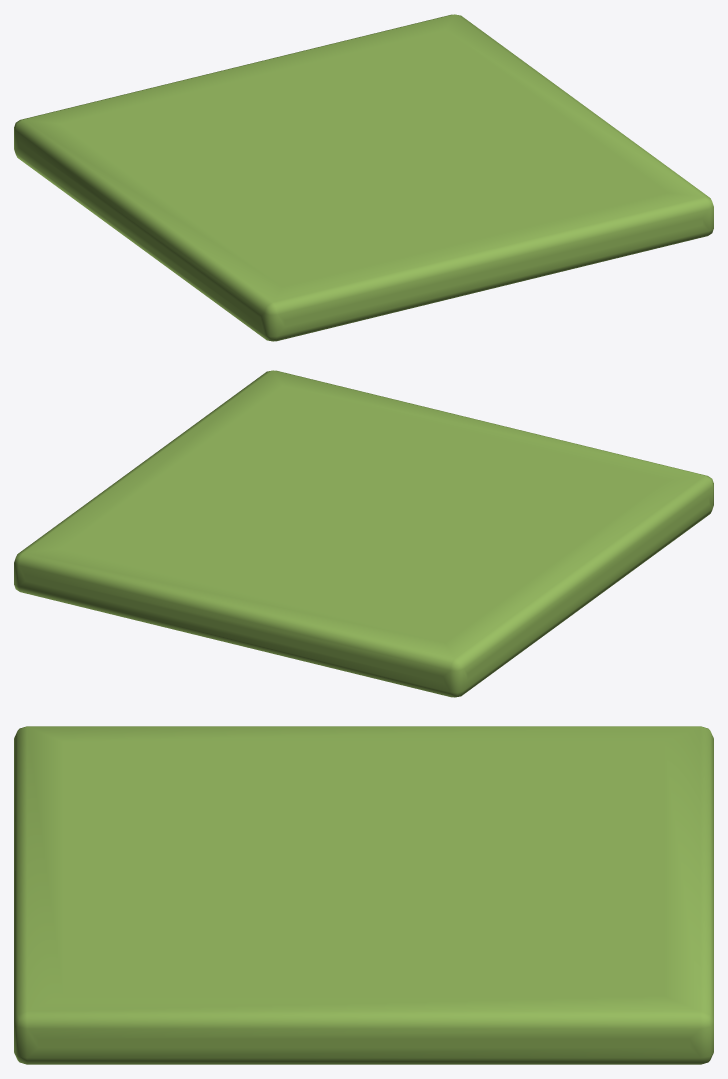
File: turf_pad.glb
3 renders of one model, top to bottom at view 1: azimuth 30°, elevation 25°; view 2: azimuth 150°, elevation 25°; view 3: azimuth 270°, elevation 25°, orthographic. The views are drawn at different scales.
Visible parts, largest first — view 1: Turf_Body; view 2: Turf_Body; view 3: Turf_Body.
Boxes of the visible parts, bbox=[...] form: Turf_Body: bbox=[14, 14, 713, 341]; Turf_Body: bbox=[14, 370, 713, 697]; Turf_Body: bbox=[14, 726, 713, 1064].
Bounding box in the file's own units: 0.96 × 0.08 × 0.96.
